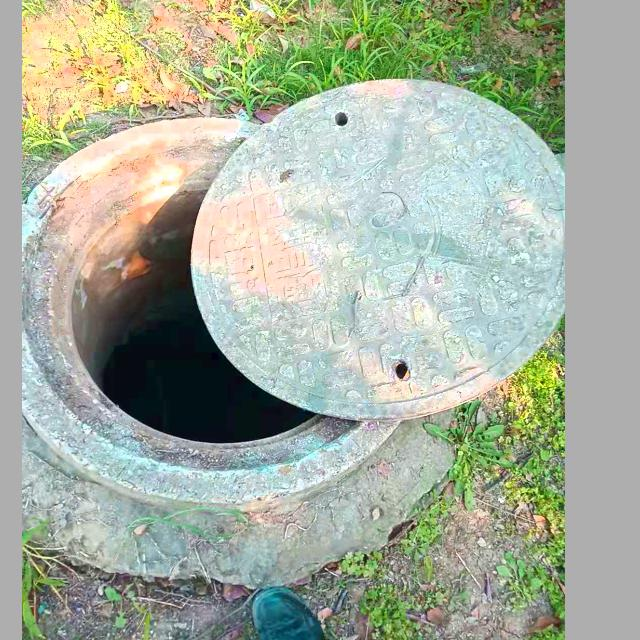uncovered: (22, 75, 559, 507)
